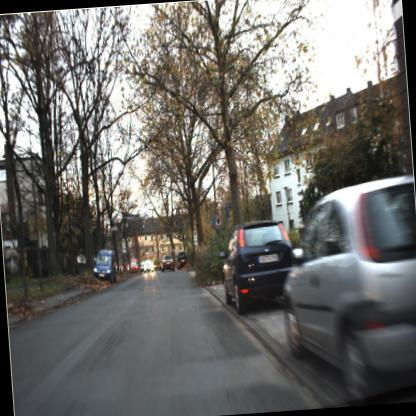danger: (209, 212, 226, 231)
